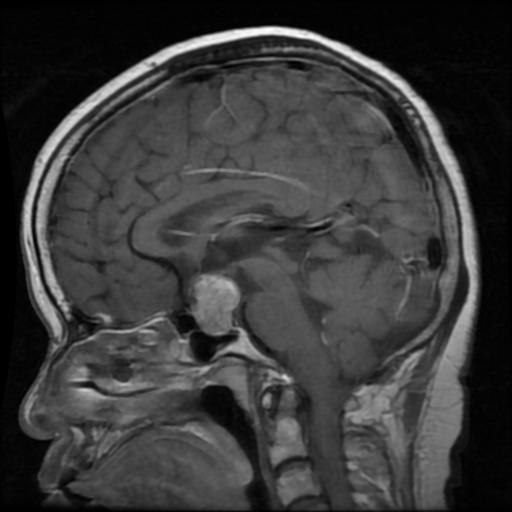Pituirity_tumour: (192, 272, 240, 332)
